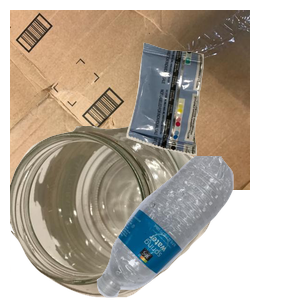cardboard: (10, 10, 250, 190)
glass: (10, 126, 216, 300)
plastic: (94, 156, 300, 300)
trash: (124, 40, 300, 188)
